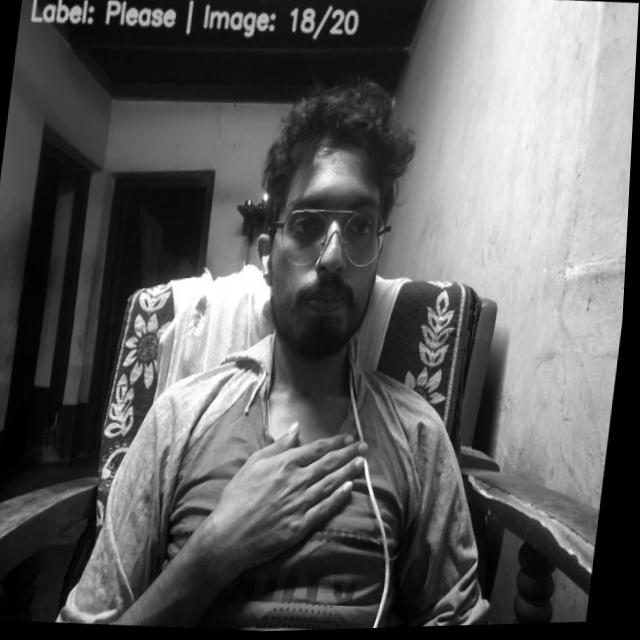Please: (207, 416, 376, 610)
